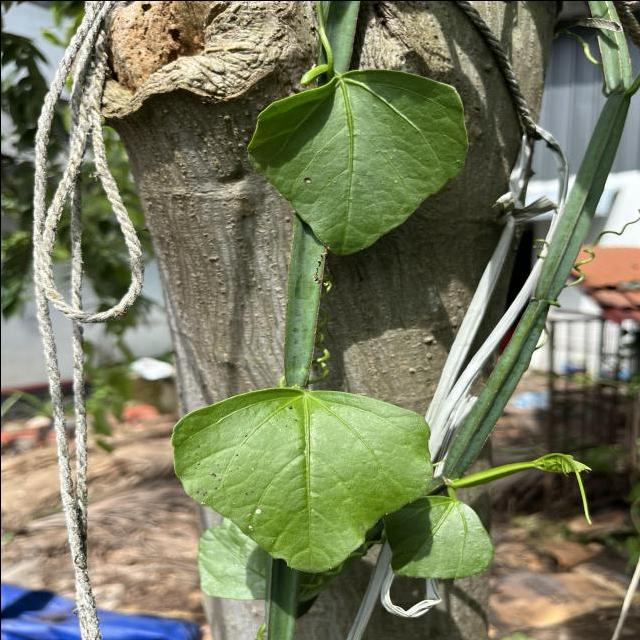Cissus quadrangularis: (168, 382, 436, 576), (244, 66, 471, 258)
